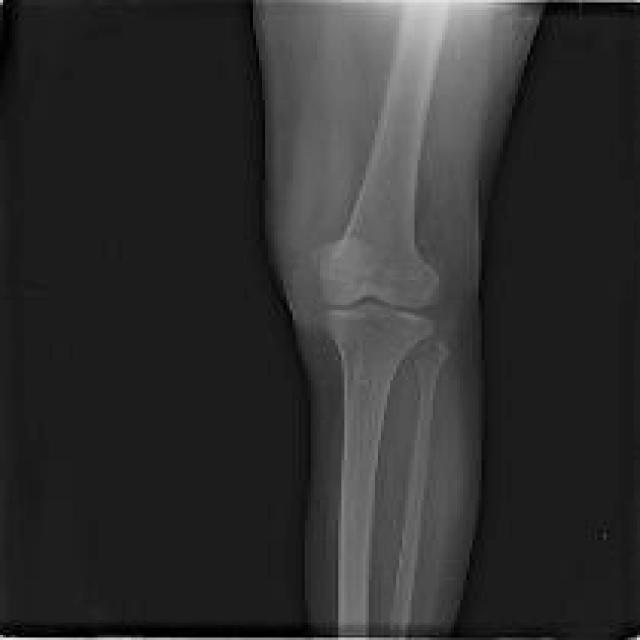normal: (322, 0, 452, 309), (321, 310, 437, 640), (389, 343, 448, 633)
